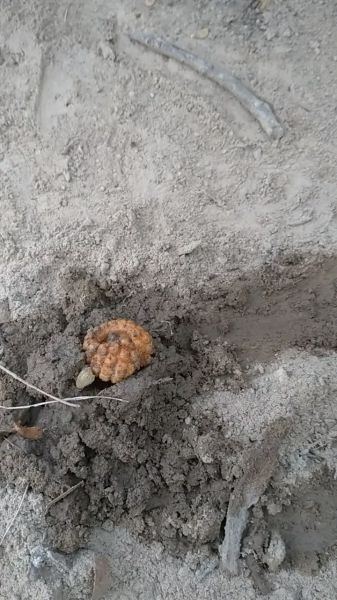eggs: (79, 315, 157, 383)
